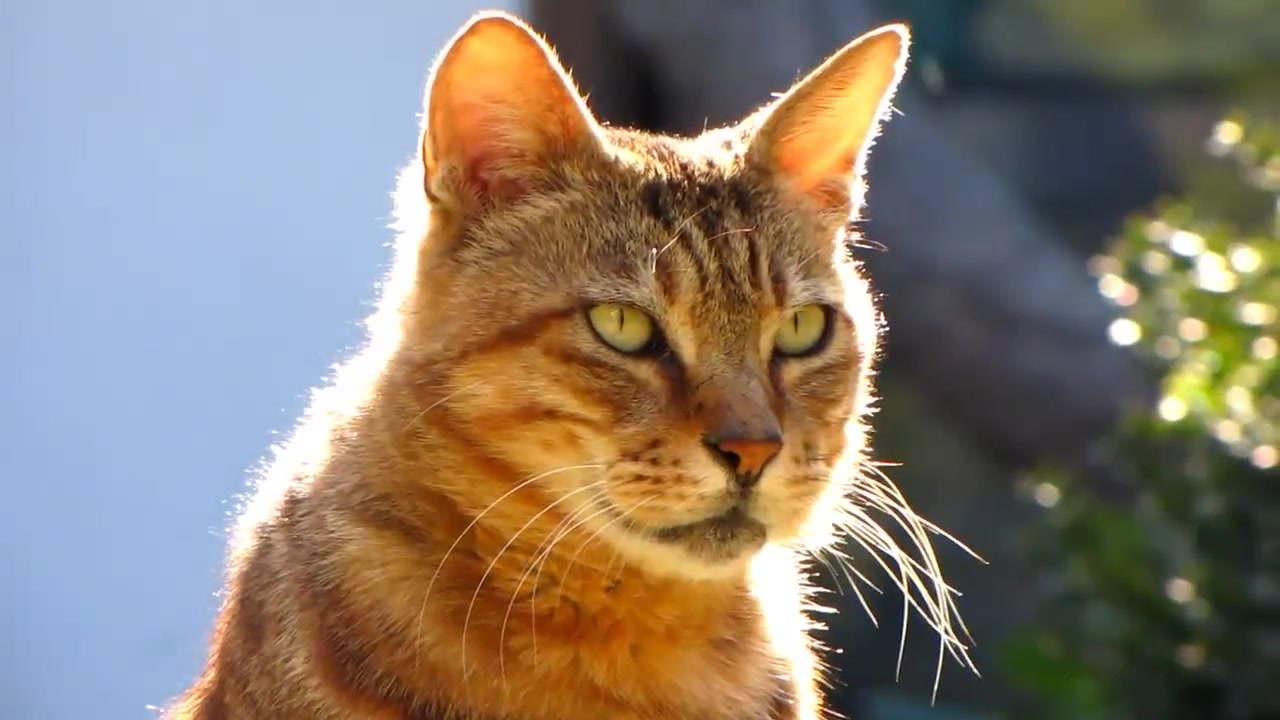cat: (117, 14, 916, 720)
